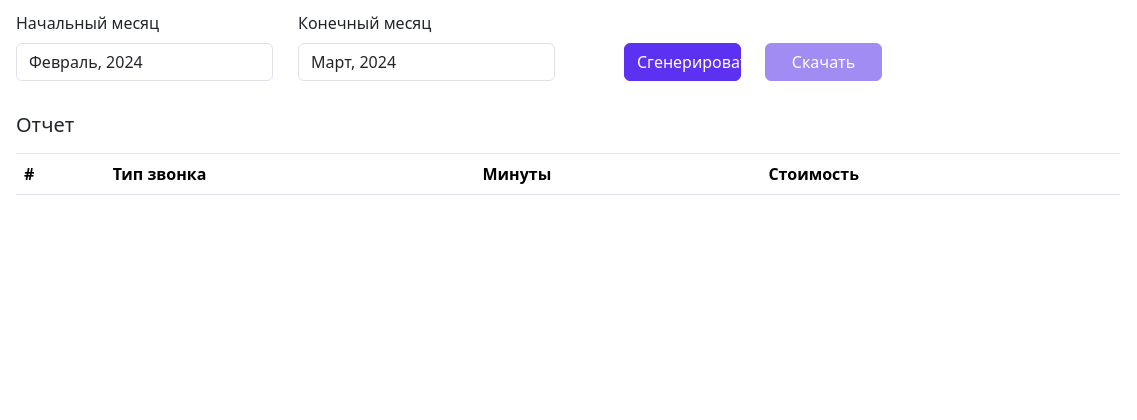
Scenario: Reports › return render report spinner
Click the button with test id "generateReportButton". click: (682, 62)
box: left=624, top=43, right=741, bottom=81
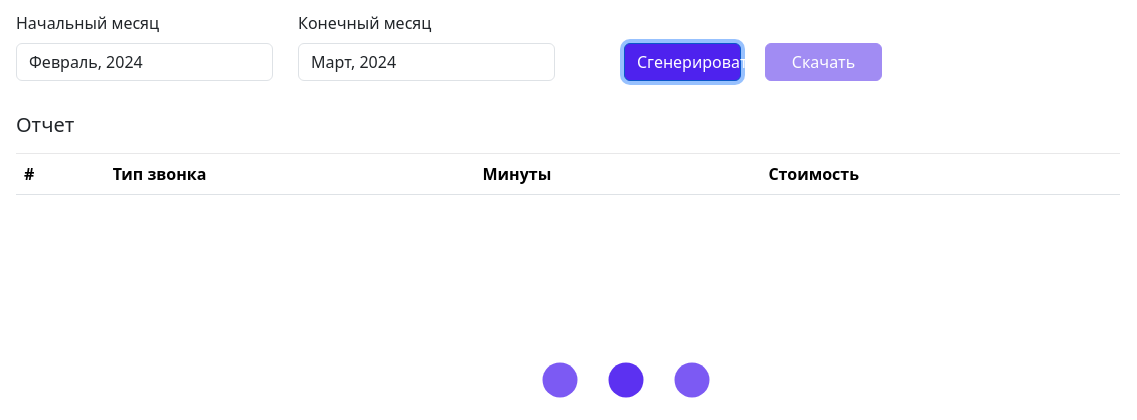
Now the element with test id "reportSpinner" is shown, box left=608, top=362, right=643, bottom=404
